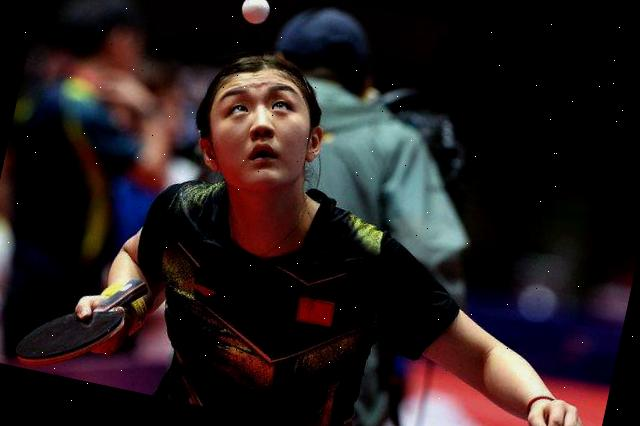ball: (232, 0, 274, 29)
